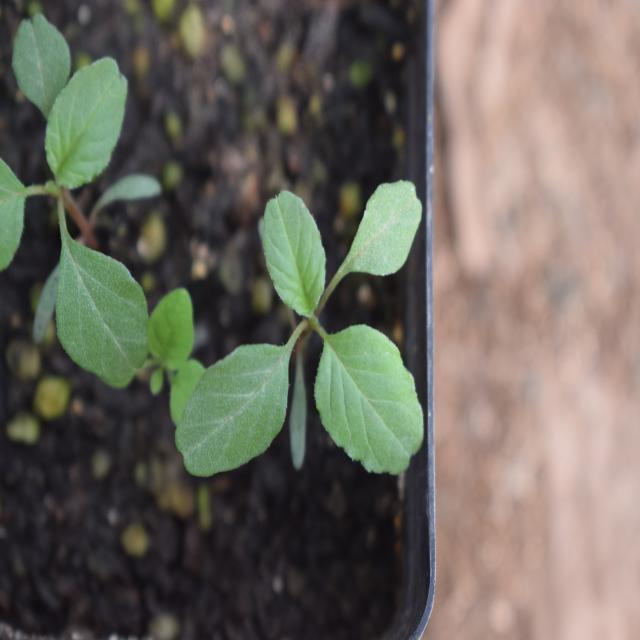pigweed: (172, 154, 434, 497)
